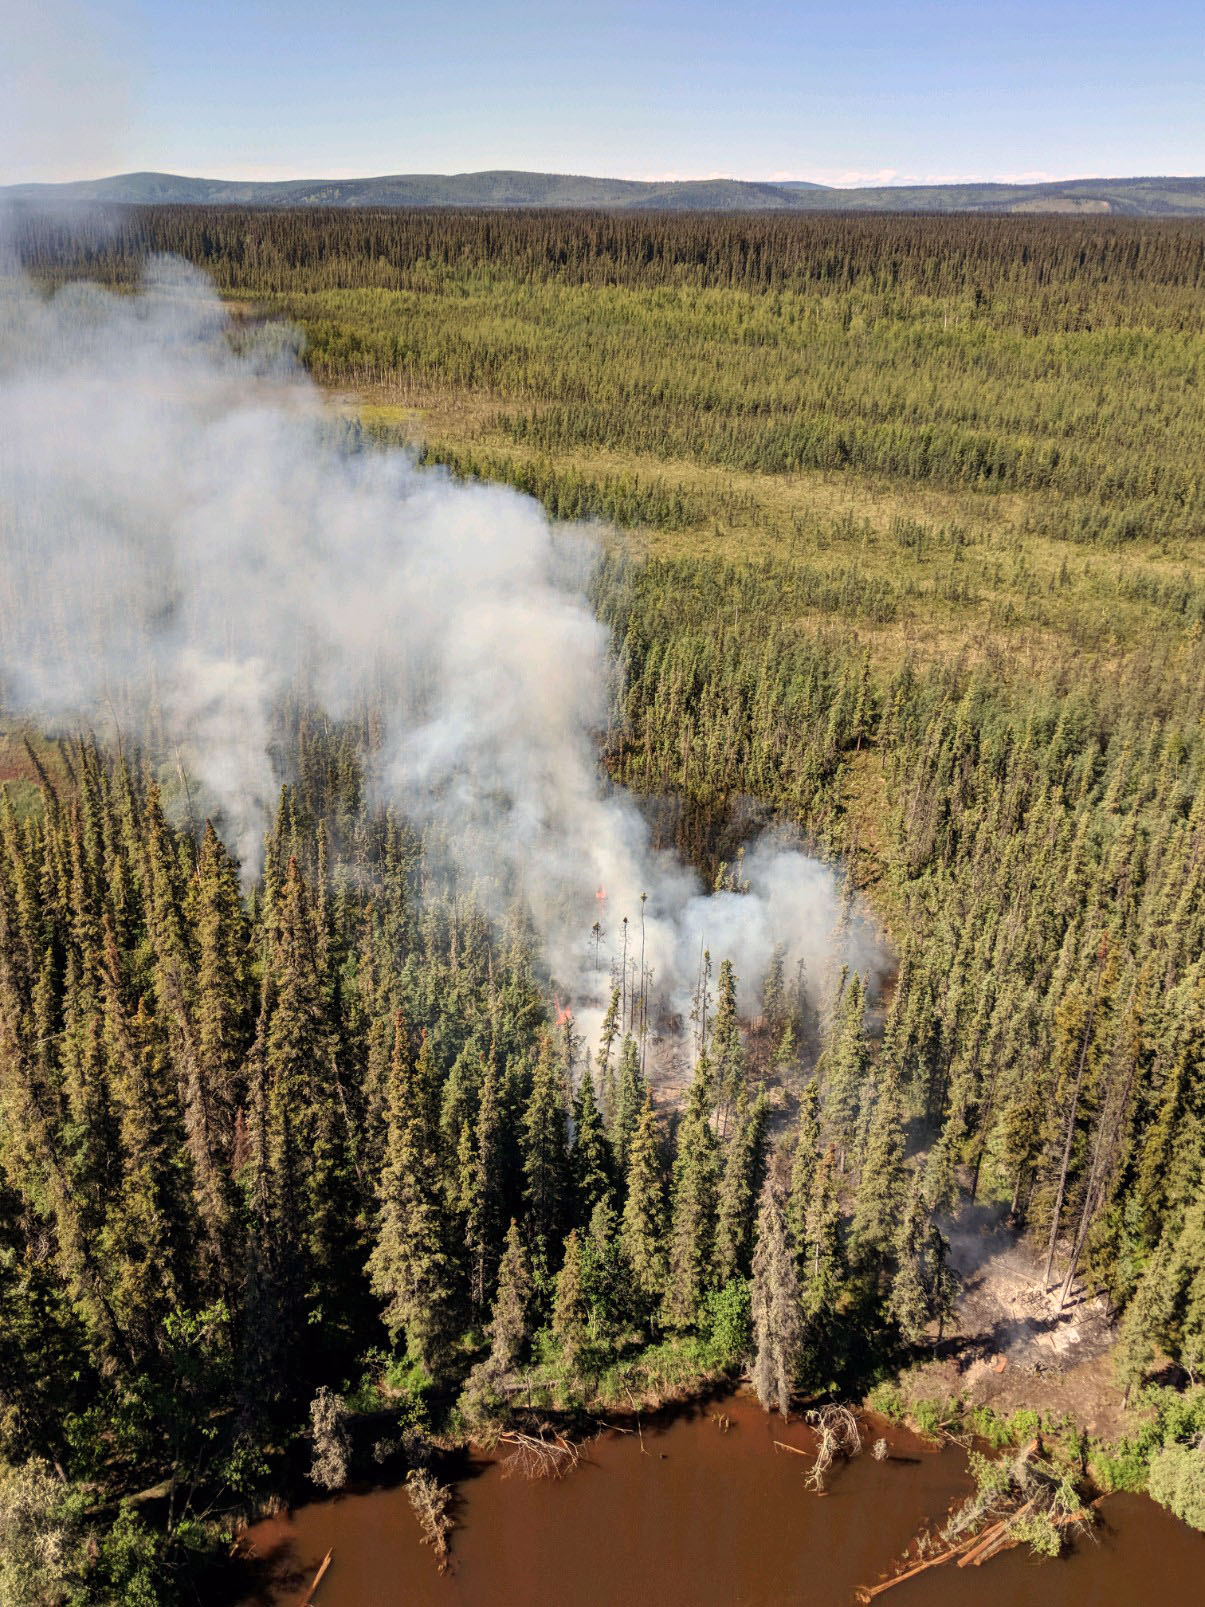fire: (447, 809, 902, 1127)
